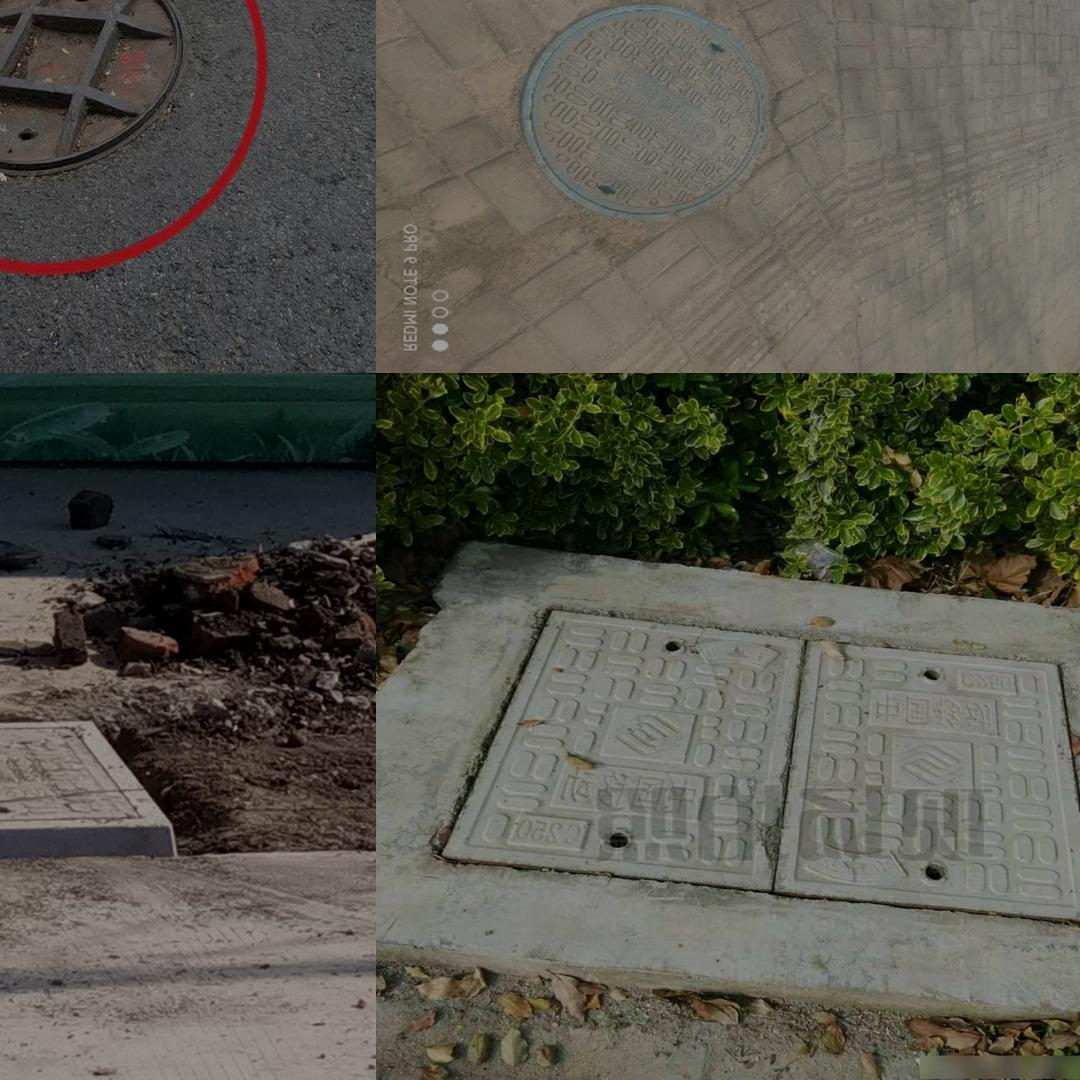good: (435, 603, 1080, 926), (518, 3, 766, 220), (0, 0, 195, 183), (0, 720, 170, 842)
